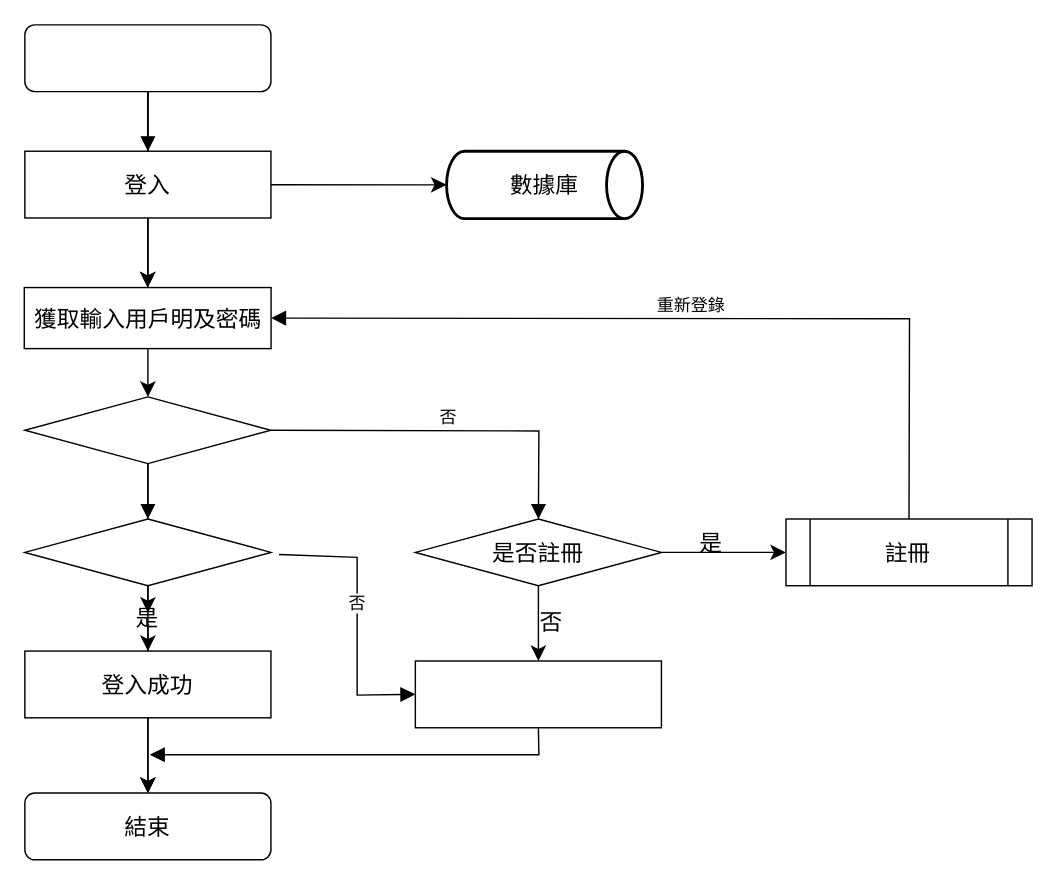
Image size: 1058x885. Some labels were removed from this diagram. Here are the shapes that lost their labels. From the top down, the centre of each, then its label:
At pixel 147 57: "開始".
At pixel 147 429: "判斷數據庫中是否存在用戶名".
At pixel 147 552: "判斷用戶名及密碼是否正確".
At pixel 537 694: "登入失敗".
